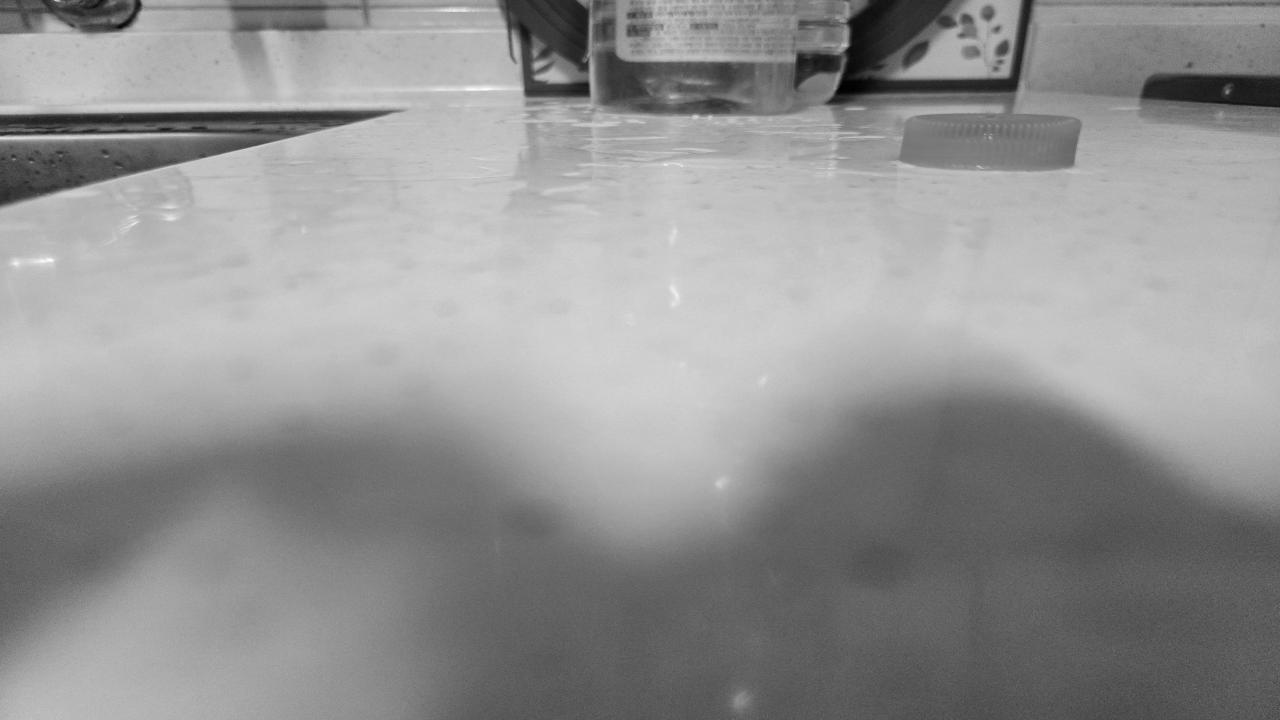bottle_cap: (902, 113, 1077, 169)
